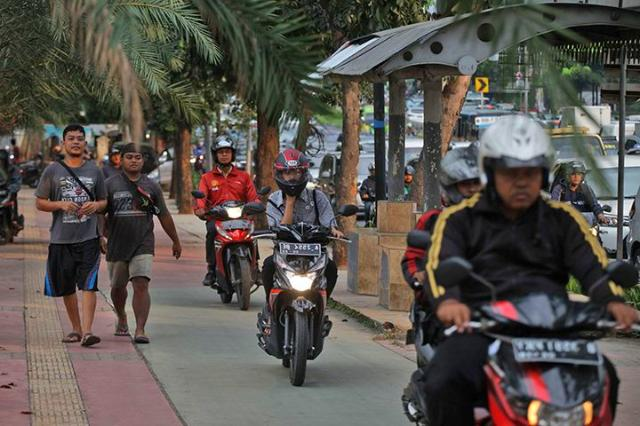helm: (477, 111, 558, 214), (437, 141, 484, 209), (272, 147, 315, 198), (209, 136, 240, 173)
motor: (412, 250, 640, 426), (248, 210, 358, 386), (200, 191, 263, 314)
